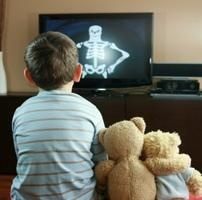person without safety: (13, 28, 100, 179)
